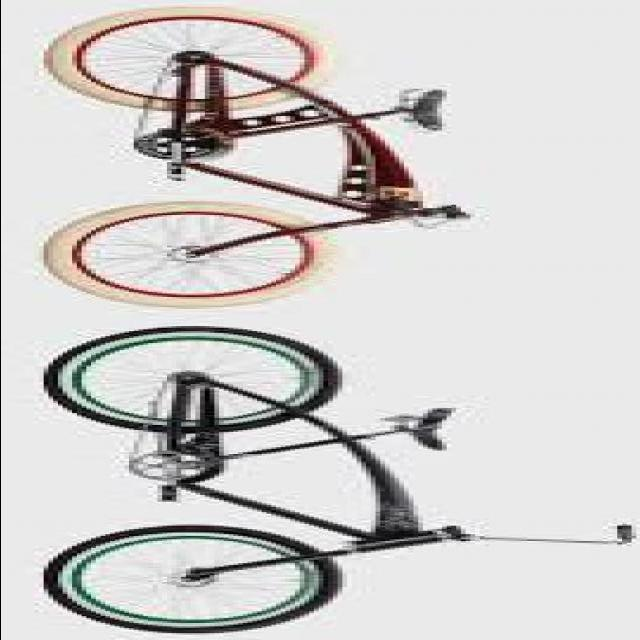bicycle: (39, 334, 631, 636), (35, 10, 485, 308)
